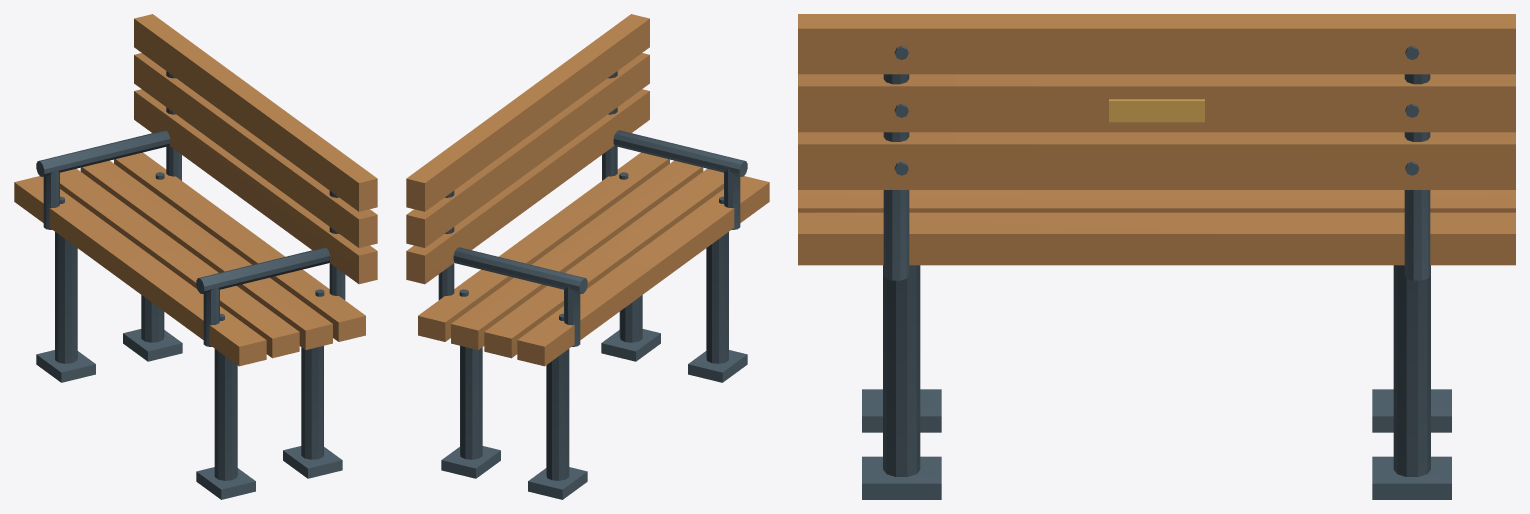
File: bench.glb
3 renders of one model, left to right at view 1: azimuth 30°, elevation 25°; view 2: azimuth 150°, elevation 25°; view 3: azimuth 270°, elevation 25°, orthographic. The views are drawn at different scales.
Parts seen in each view (by area): view 1: seat slat, bench leg; view 2: seat slat, bench leg; view 3: seat slat, bench leg, maker badge.
Boxes of the visible parts, box(x1,y1,x2,y2) form: seat slat: box(14, 14, 377, 366); bench leg: box(36, 71, 345, 499); seat slat: box(406, 14, 769, 366); bench leg: box(438, 71, 747, 499); seat slat: box(798, 14, 1515, 265); bench leg: box(862, 46, 1451, 499); maker badge: box(1109, 99, 1204, 122).
Bounding box in the file's own units: 0.513 × 1 × 1.35.
